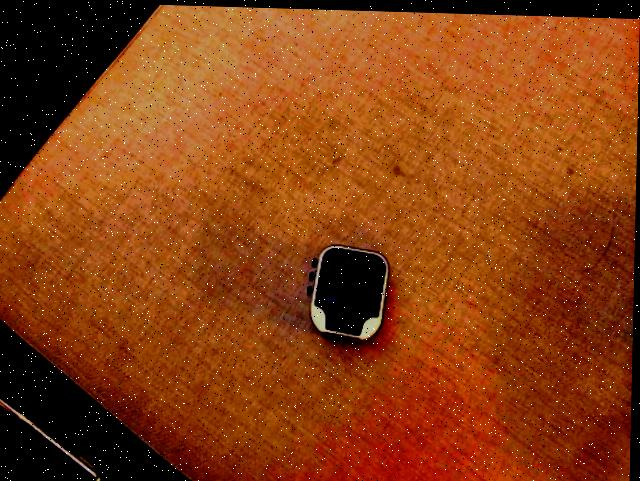adapter: (306, 241, 390, 339)
